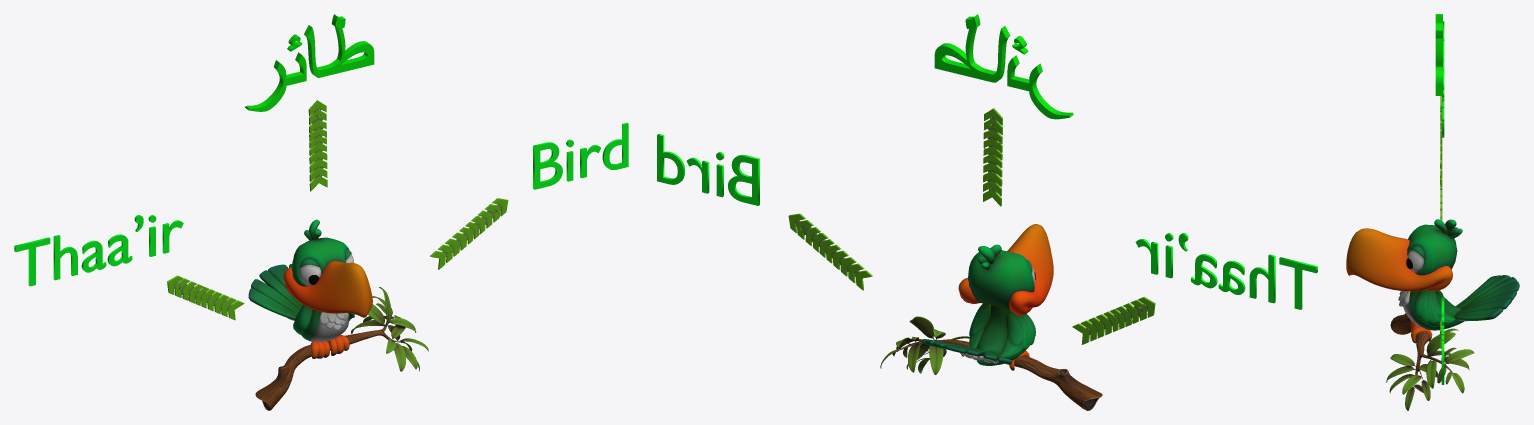
Rendered from Bird.fbx.
3 renders of one model, left to right at view 1: azimuth 30°, elevation 25°; view 2: azimuth 150°, elevation 25°; view 3: azimuth 270°, elevation 25°, orthographic. The views are drawn at different scales.
Visible parts, largest first — view 1: SM_Bird.001, SM_branch.001, text4, Text.001, Text, tripo_node_c3af7e20, tripo_node_c3af7e20.002, tripo_node_c3af7e20.001; view 2: SM_Bird.001, text4, Text.001, SM_branch.001, Text, tripo_node_c3af7e20, tripo_node_c3af7e20.001, tripo_node_c3af7e20.002; view 3: SM_Bird.001, SM_branch.001, text4, Text, Text.001, tripo_node_c3af7e20.002.
Boxes of the visible parts, box(x1,y1,x2,y2) form: SM_Bird.001: box(248, 219, 372, 358); SM_branch.001: box(255, 287, 428, 410); text4: box(245, 14, 374, 111); Text.001: box(14, 215, 183, 286); Text: box(533, 123, 628, 189); tripo_node_c3af7e20: box(430, 198, 508, 269); tripo_node_c3af7e20.002: box(308, 100, 327, 191); tripo_node_c3af7e20.001: box(167, 275, 244, 320); SM_Bird.001: box(922, 224, 1053, 370); text4: box(934, 14, 1073, 119); Text.001: box(1135, 233, 1317, 309); SM_branch.001: box(880, 316, 1102, 410); Text: box(657, 134, 759, 205); tripo_node_c3af7e20: box(788, 213, 872, 290); tripo_node_c3af7e20.001: box(1072, 296, 1155, 344); tripo_node_c3af7e20.002: box(983, 108, 1002, 206); SM_Bird.001: box(1346, 219, 1519, 343); SM_branch.001: box(1386, 313, 1474, 410); text4: box(1435, 14, 1442, 95); Text: box(1441, 297, 1444, 384); Text.001: box(1442, 21, 1444, 137); tripo_node_c3af7e20.002: box(1440, 96, 1442, 186).
Size of the model in its own units: 195 by 110 by 48.29.
Materials: 5 (3 with a texture image).
